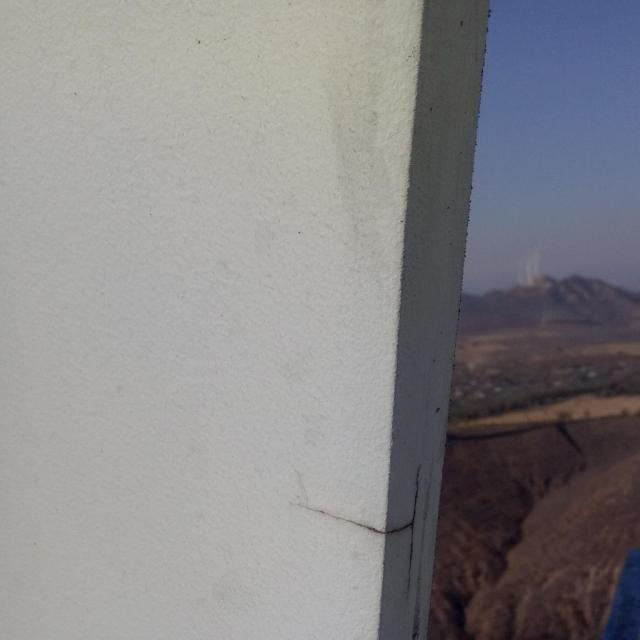crack: (291, 499, 410, 543), (402, 467, 420, 588)
